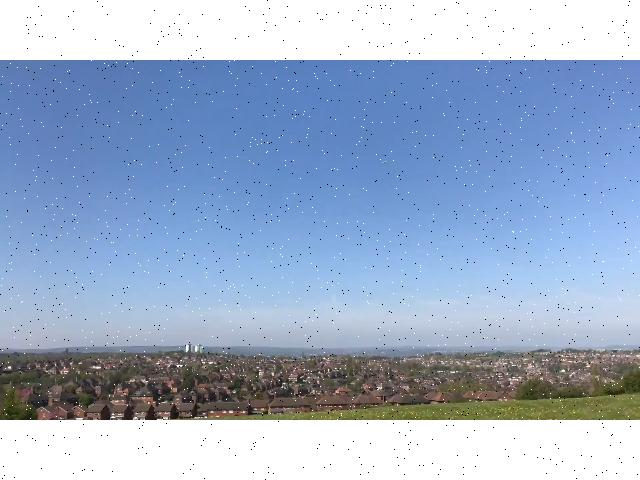Anti-Drone: (374, 156, 398, 172)
